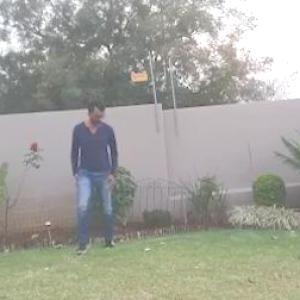follow: (59, 91, 114, 263)
